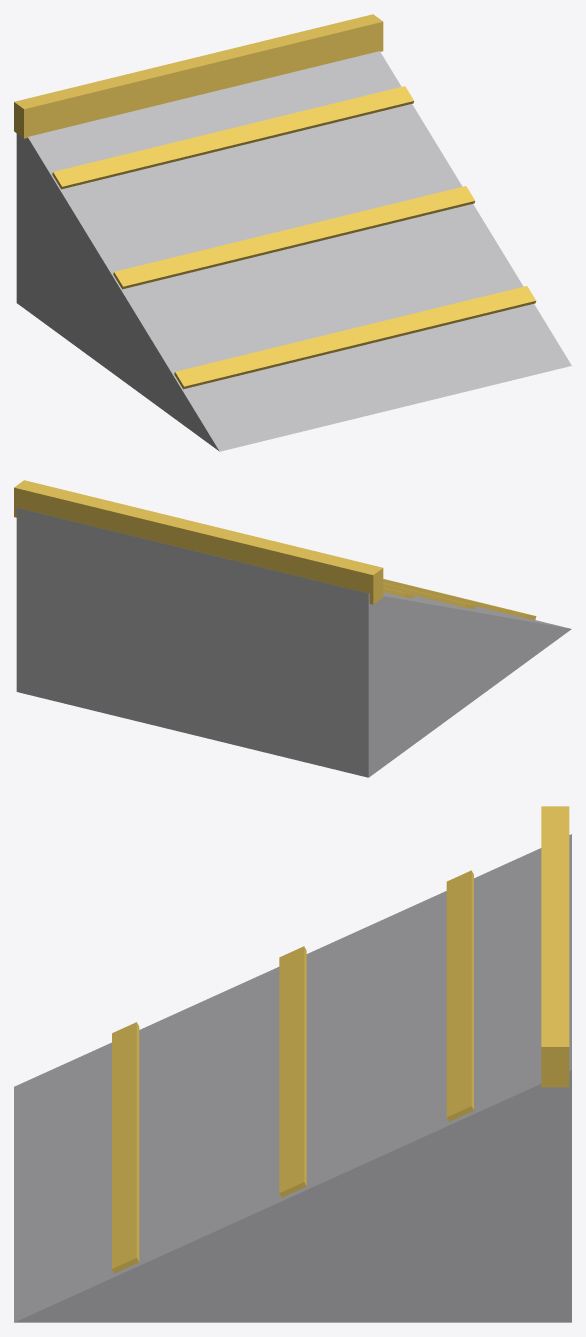
The model's file is ramp.glb.
3 renders of one model, top to bottom at view 1: azimuth 30°, elevation 25°; view 2: azimuth 150°, elevation 25°; view 3: azimuth 270°, elevation 25°, orthographic. The views are drawn at different scales.
Parts seen in each view (by area): view 1: Ramp, HighLip, GripStrip1, GripStrip2, GripStrip3; view 2: Ramp, HighLip, GripStrip1, GripStrip2; view 3: Ramp, HighLip, GripStrip1, GripStrip3, GripStrip2.
Boxes of the visible parts, x1,y1,x2,y2 form: Ramp: [16, 51, 571, 451]; HighLip: [14, 14, 383, 138]; GripStrip1: [174, 286, 536, 389]; GripStrip2: [113, 186, 474, 289]; GripStrip3: [52, 86, 413, 189]; Ramp: [16, 507, 571, 777]; HighLip: [14, 480, 383, 604]; GripStrip1: [383, 579, 536, 619]; GripStrip2: [383, 583, 475, 609]; Ramp: [14, 834, 571, 1322]; HighLip: [541, 806, 569, 1087]; GripStrip1: [112, 1022, 139, 1273]; GripStrip3: [446, 870, 473, 1121]; GripStrip2: [279, 946, 306, 1197].
Size of the model in its own units: 2.04 by 1.1 by 2.
